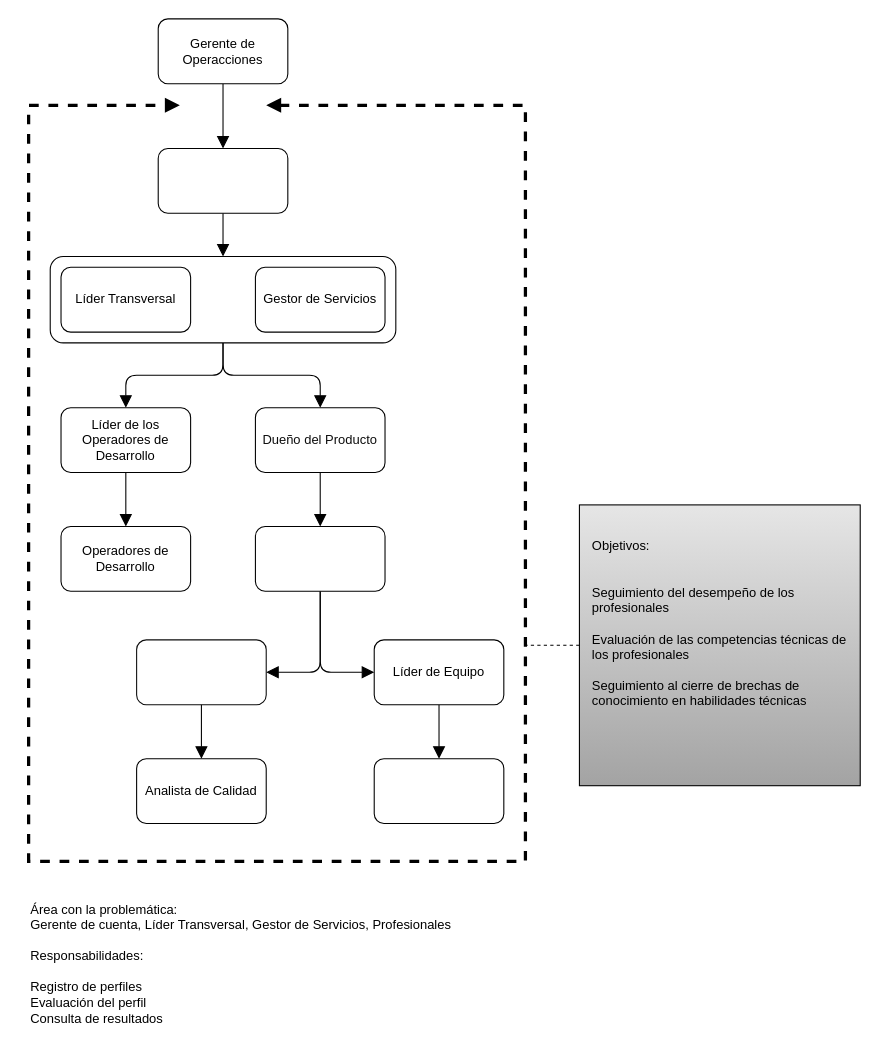
This 879x1064 diagram has some shape labels left out. The shapes that lost their labels are listed below. From the top down, each one's box as (x1, y1, x2, y2) in pixels, then its label:
(157, 147, 288, 213): Gerente de Cuenta
(254, 525, 385, 591): Maestro Scrum
(136, 639, 266, 705): Líder de Calidad
(373, 758, 504, 824): Desarrolladores
